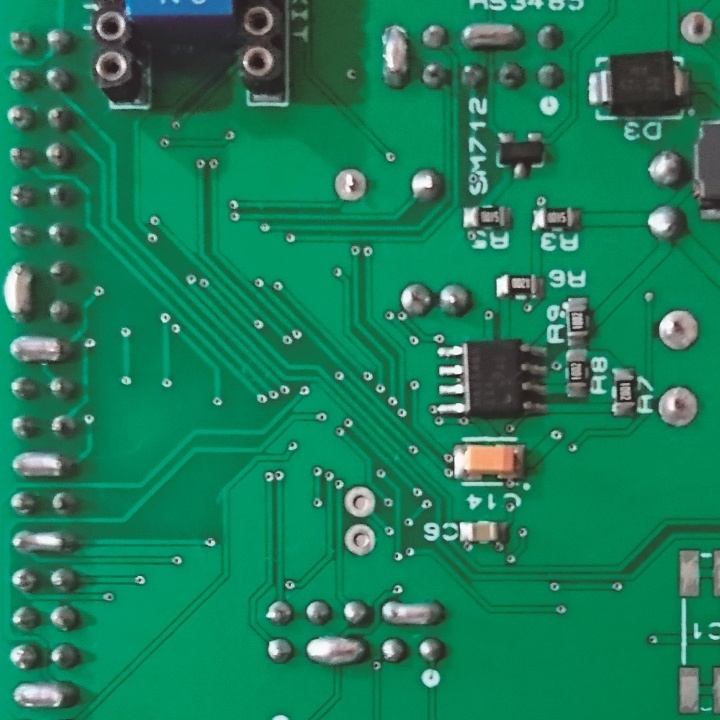F: (653, 384, 701, 432), (656, 309, 699, 352), (330, 165, 373, 205), (677, 9, 716, 47), (341, 522, 376, 560), (341, 483, 377, 519)
P: (378, 20, 414, 94), (1, 257, 37, 326), (458, 19, 527, 55), (302, 635, 368, 669), (377, 598, 449, 629), (10, 680, 81, 710), (10, 448, 75, 480), (9, 333, 76, 363), (10, 529, 80, 556)
